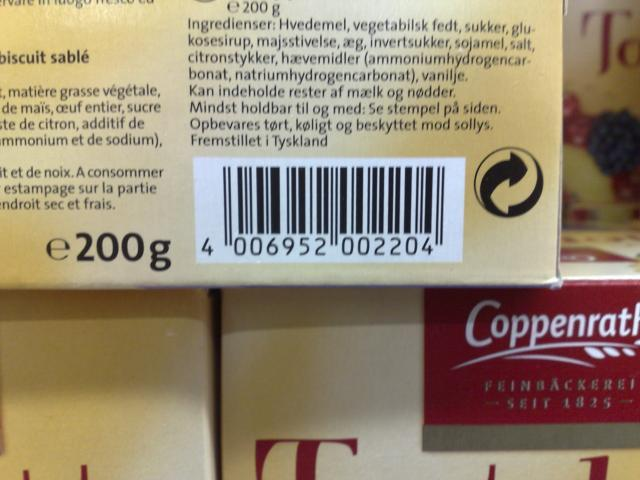Barcode: (194, 157, 466, 264)
